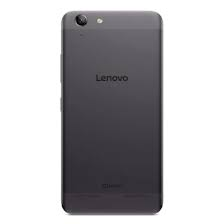lenovo: (59, 9, 166, 218)
